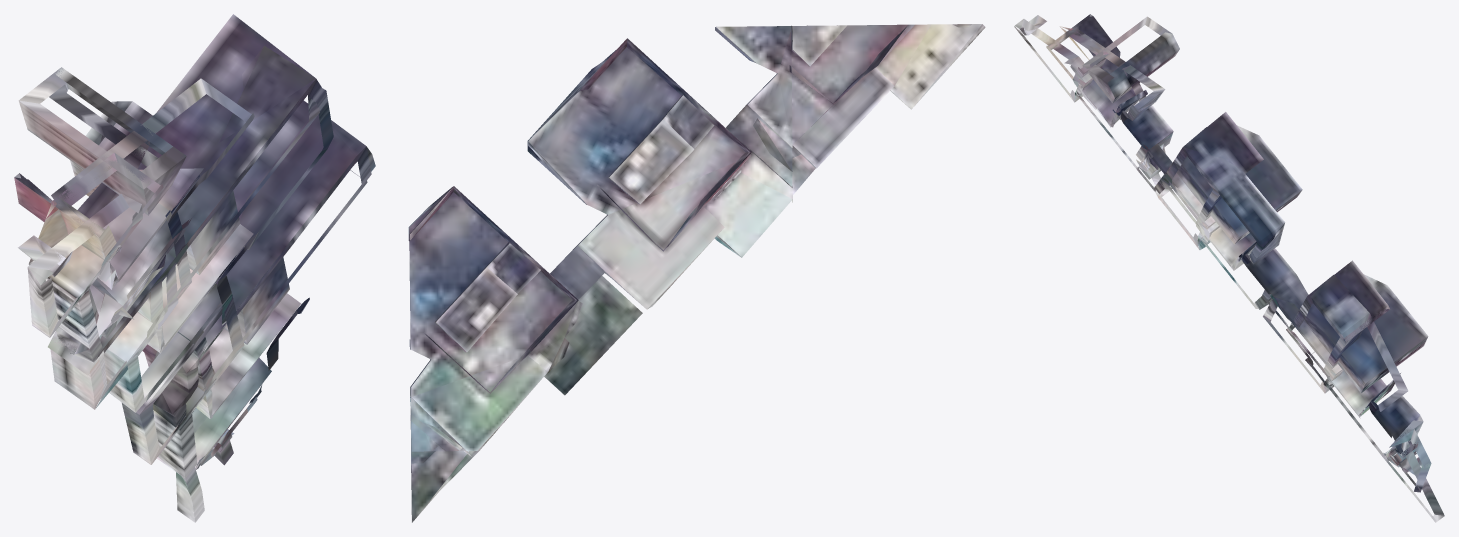
3 views of the same model, side by side, from view 1: azimuth 30°, elevation 25°; view 2: azimuth 150°, elevation 25°; view 3: azimuth 270°, elevation 25° (orthographic). The views are drawn at different scales.
Bounding box in the file's own units: 40.99 × 44.22 × 44.26.
Materials: 1 (1 with a texture image).
